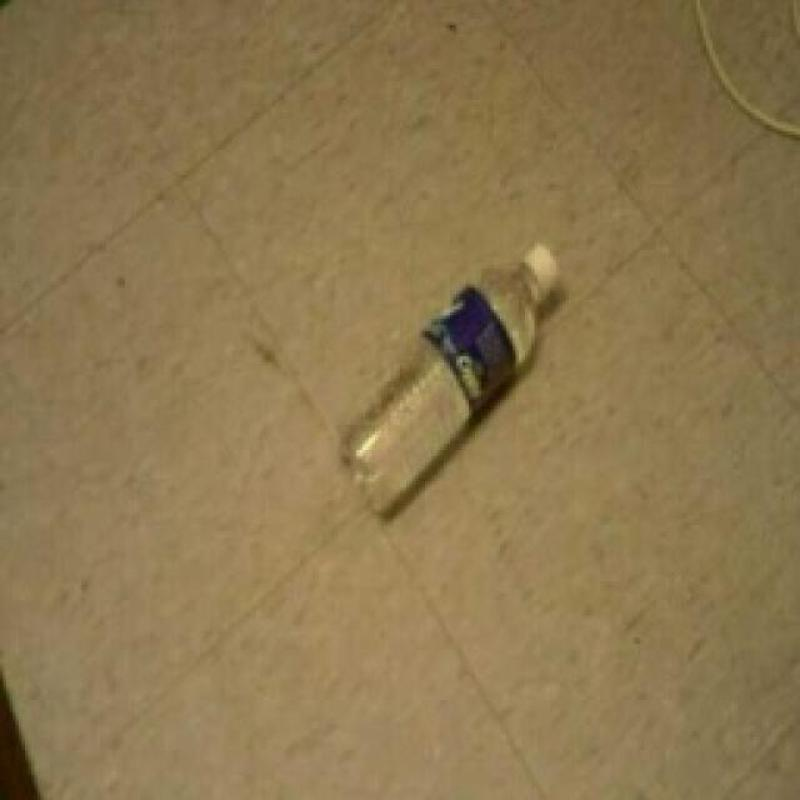botella: (342, 242, 564, 518)
